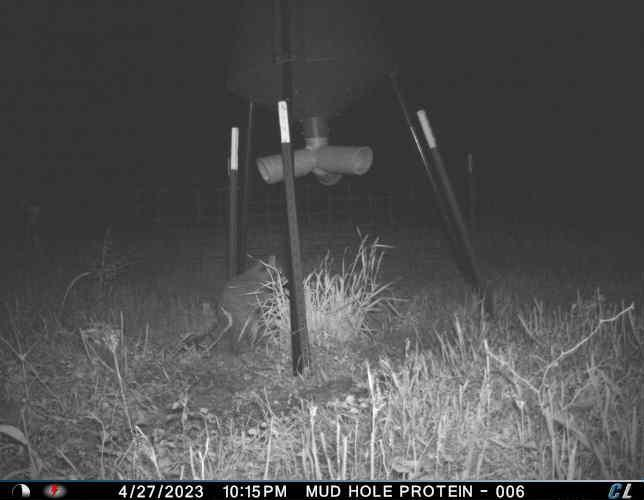Raccoon: (187, 250, 290, 365)
